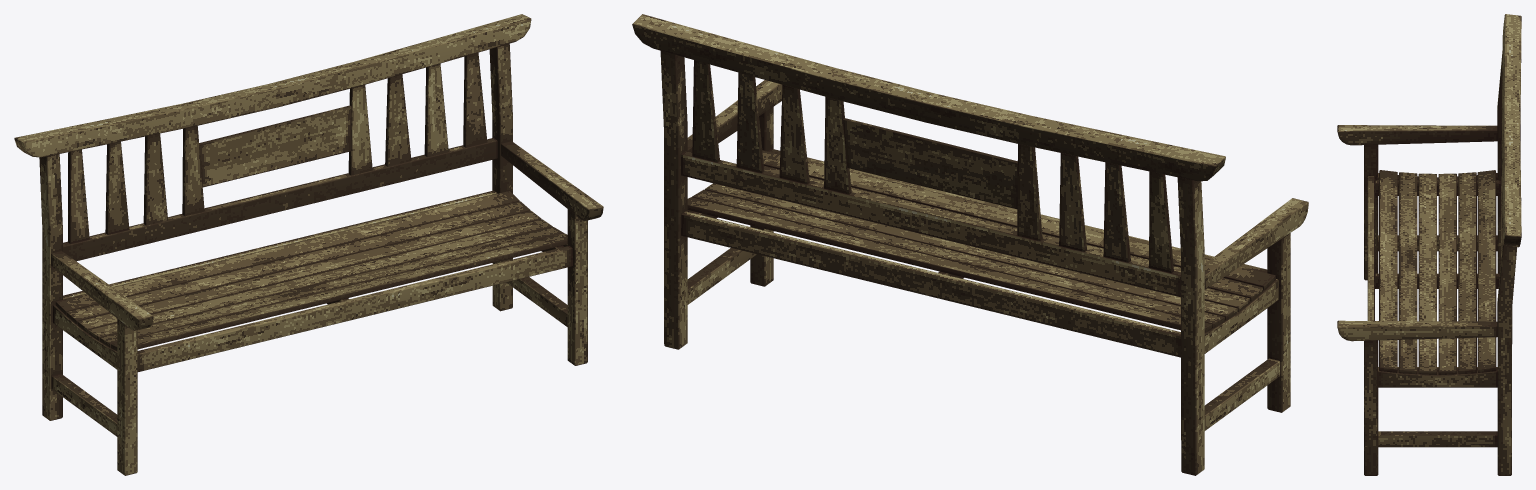
Rendered from bench_jp.glb.
The picture shows the model from 3 angles, left to right: view 1: azimuth 30°, elevation 25°; view 2: azimuth 150°, elevation 25°; view 3: azimuth 270°, elevation 25°; orthographic projection. The views are drawn at different scales.
Visible parts, largest first — view 1: mesh; view 2: mesh; view 3: mesh.
Boxes of the visible parts, x1,y1,x2,y2 form: mesh: (14, 14, 603, 475); mesh: (632, 14, 1308, 475); mesh: (1337, 14, 1521, 475).
Size of the model in its own units: 0.85 by 0.45 by 0.2992.
1 material, 1 textured.
